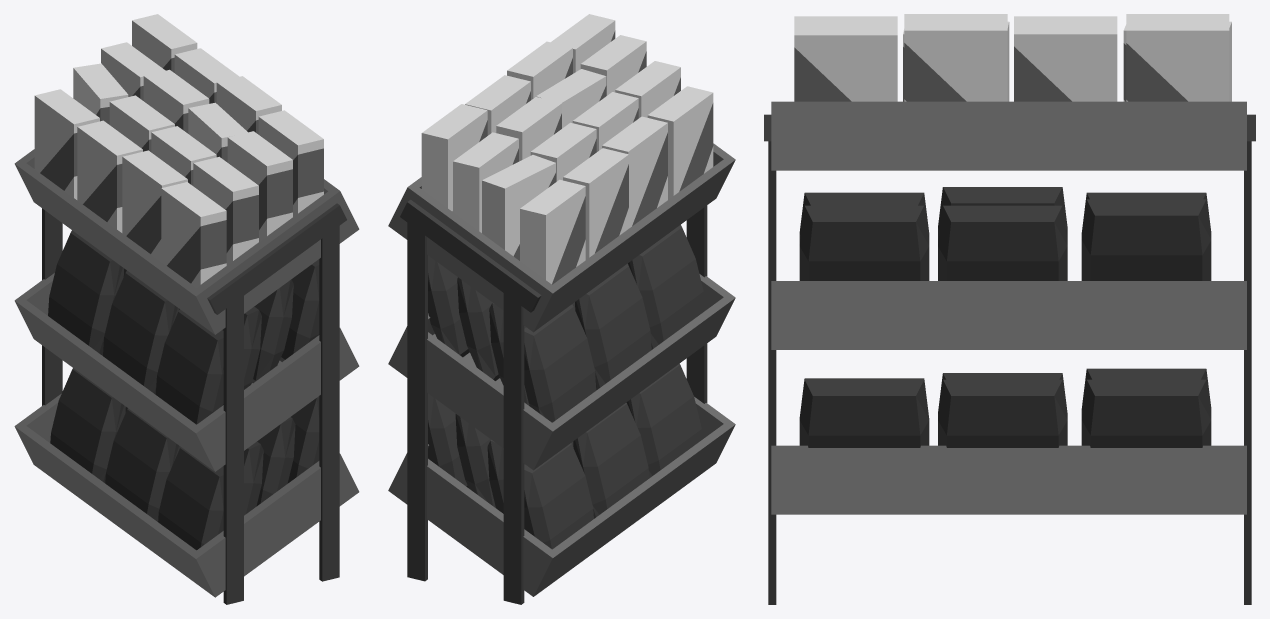
File: food_stack_A.FBX
The picture shows the model from 3 angles, left to right: view 1: azimuth 30°, elevation 25°; view 2: azimuth 150°, elevation 25°; view 3: azimuth 270°, elevation 25°; orthographic projection. The views are drawn at different scales.
Visible parts, largest first — view 1: food_stack_A; view 2: food_stack_A; view 3: food_stack_A.
Part boxes in pixels (left/top/right/bottom): food_stack_A: left=14, top=14, right=359, bottom=604; food_stack_A: left=388, top=14, right=735, bottom=604; food_stack_A: left=764, top=14, right=1255, bottom=604.
Size of the model in its own units: 40.85 by 104 by 81.29.
